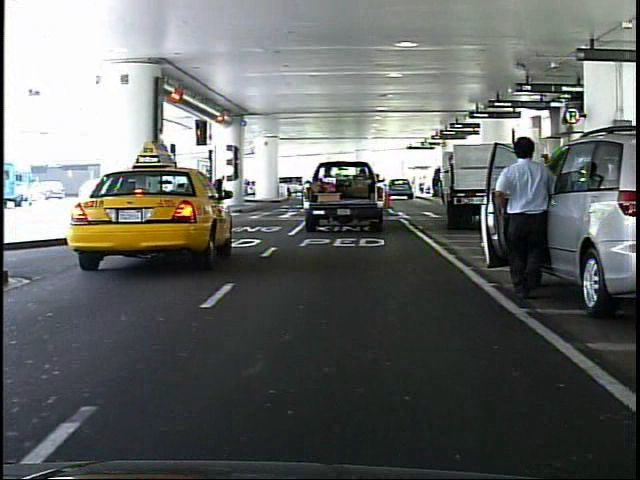person: (488, 128, 558, 302), (213, 168, 232, 211)
